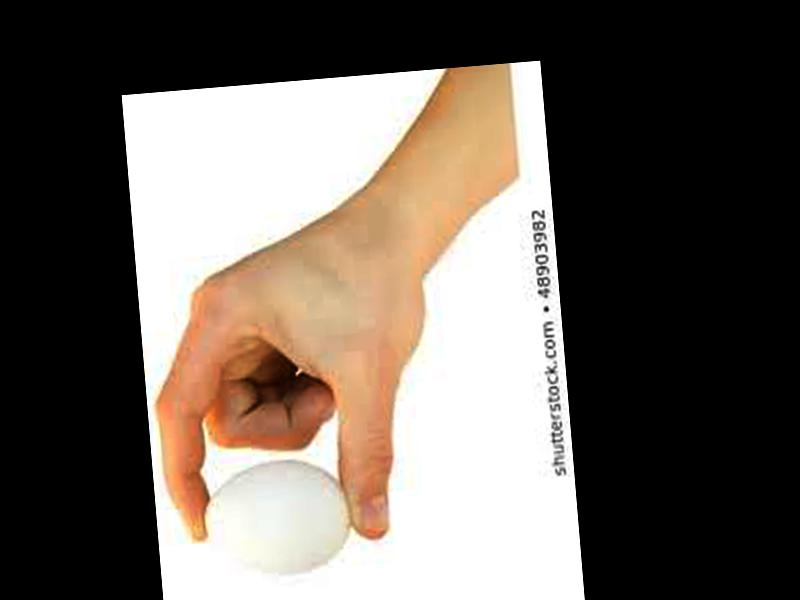Eggs: (200, 454, 355, 577)
